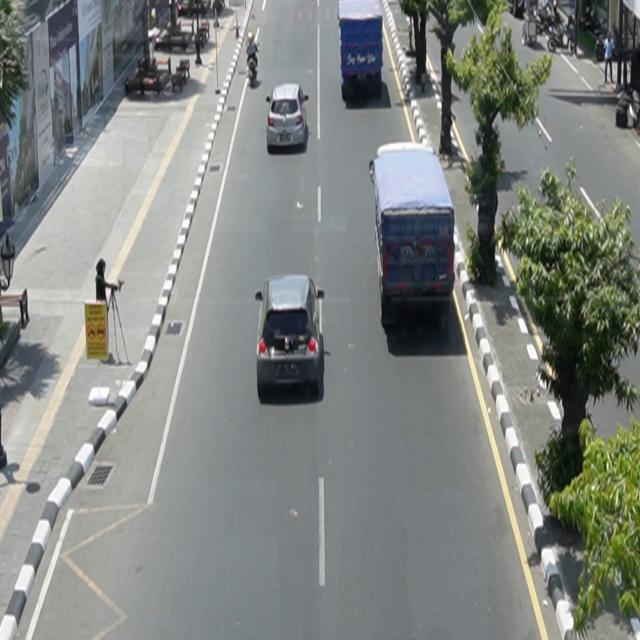car: (256, 274, 326, 403), (266, 83, 310, 153)
